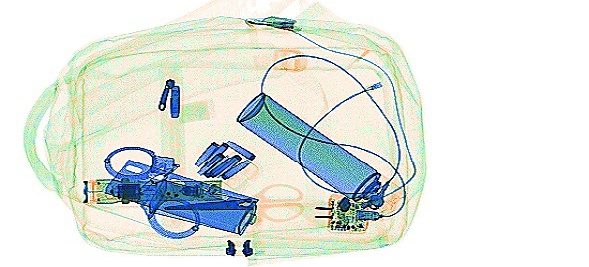handcuffs: (102, 144, 200, 240)
pressure: (234, 91, 406, 215)
scissors: (161, 181, 304, 224)
zippooil: (147, 178, 257, 235)
